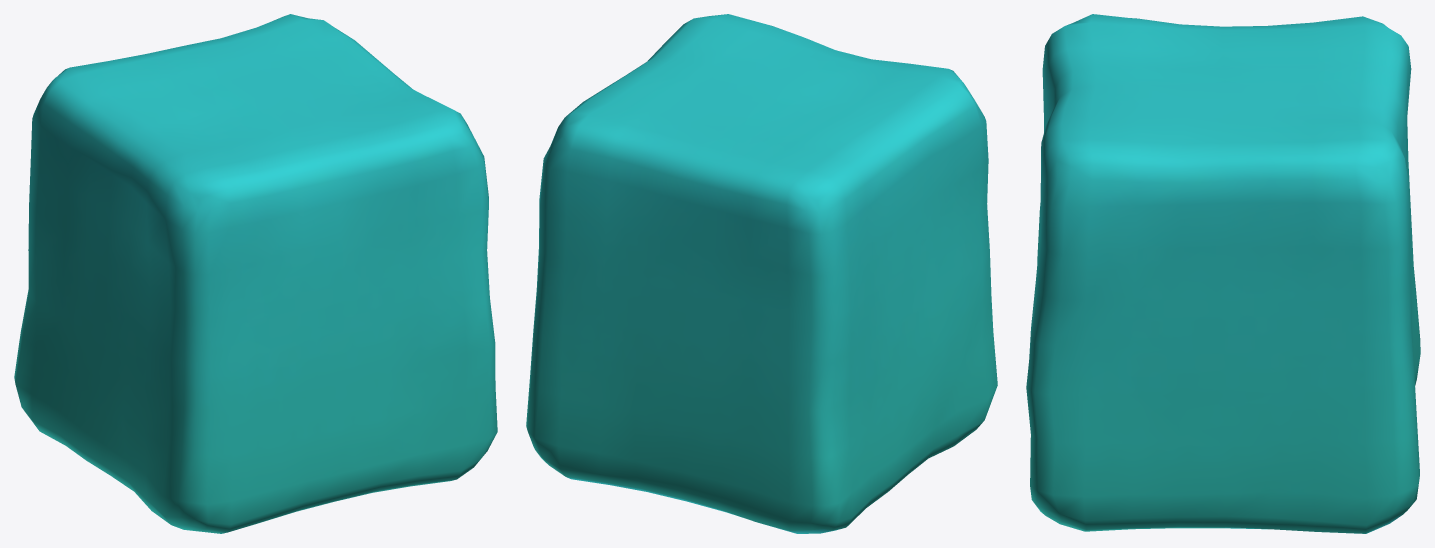
The model's file is OBJ_UnmeltingIceCube.fbx.
3 views of the same model, side by side, from view 1: azimuth 30°, elevation 25°; view 2: azimuth 150°, elevation 25°; view 3: azimuth 270°, elevation 25° (orthographic). The views are drawn at different scales.
Visible parts, largest first — view 1: OBJ_UnmeltingIceCube; view 2: OBJ_UnmeltingIceCube; view 3: OBJ_UnmeltingIceCube.
Part boxes in pixels (left/top/right/bottom): OBJ_UnmeltingIceCube: left=14, top=14, right=497, bottom=533; OBJ_UnmeltingIceCube: left=526, top=14, right=997, bottom=533; OBJ_UnmeltingIceCube: left=1026, top=14, right=1420, bottom=533.
Size of the model in its own units: 44.51 by 47.95 by 44.69.
